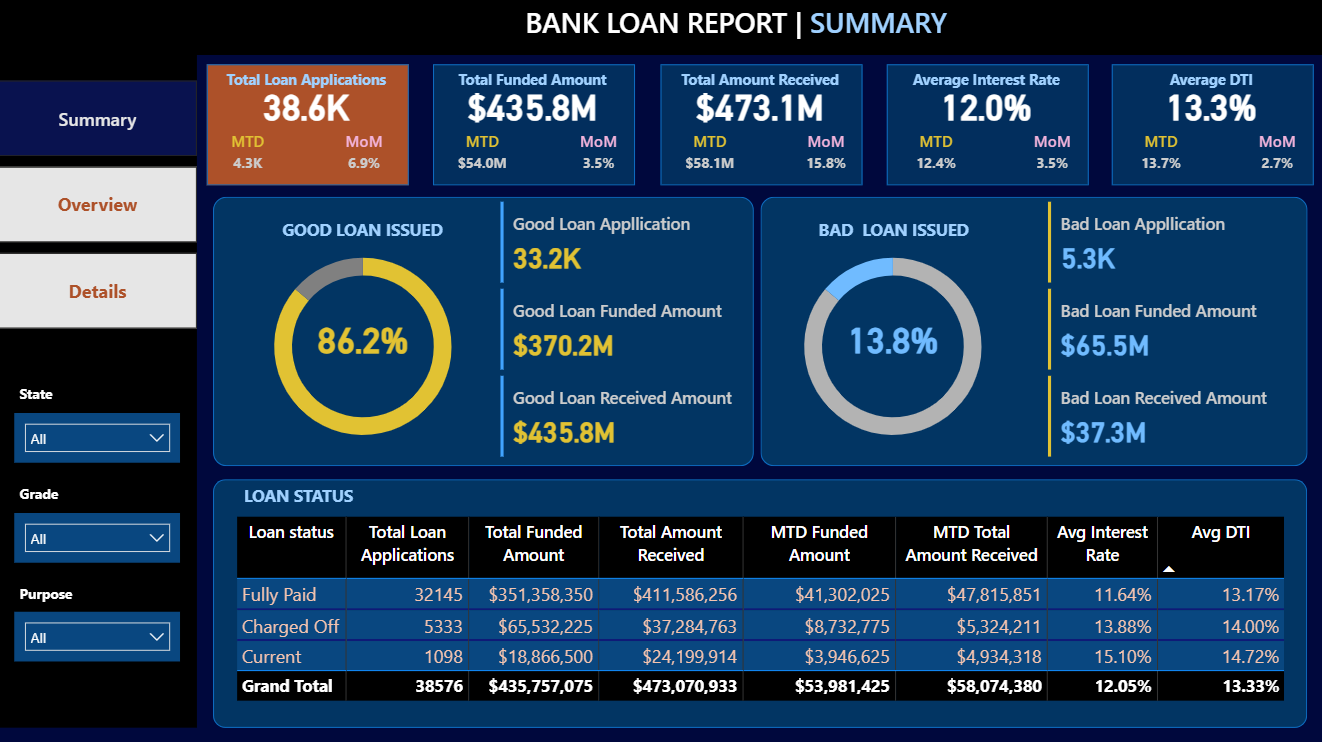

What the dashboard file says about the page in this screenshot:
{"tool":"powerbi","page":{"name":"Summary","canvas":[1280,720],"ordinal":0},"visuals":[{"type":"shape","box":[0,0,1280,55],"z":0},{"type":"shape","box":[201.9,63.4,195,117],"z":0,"group":"g2"},{"type":"shape","box":[419.4,64,195,117],"z":0,"group":"g1"},{"type":"shape","box":[639.8,64,195,117],"z":0,"group":"g4"},{"type":"shape","box":[857.2,64,195,117],"z":0,"group":"g3"},{"type":"shape","box":[1074.7,64,195,117],"z":0,"group":"g5"},{"type":"shape","box":[0,48,192,656],"z":1000},{"type":"card","fields":{"Values":["bank_loan_data.Total Loan Applications"]},"box":[201.9,79.4,192,48],"z":1000,"group":"g2"},{"type":"card","fields":{"Values":["bank_loan_data.Total Funded Amount"]},"box":[419.4,80,192,48],"z":1000,"group":"g1"},{"type":"card","fields":{"Values":["bank_loan_data.Total Amount Received"]},"box":[639.8,80,192,48],"z":1000,"group":"g4"},{"type":"card","fields":{"Values":["bank_loan_data.Avg Interest Rate"]},"box":[857.2,80,192,48],"z":1000,"group":"g3"},{"type":"card","fields":{"Values":["bank_loan_data.Avg DTI"]},"box":[1074.7,80,192,48],"z":1000,"group":"g5"},{"type":"textbox","box":[201.9,63.4,192,32],"z":2000,"group":"g2"},{"type":"textbox","box":[419.4,64,192,32],"z":2000,"group":"g1"},{"type":"textbox","box":[639.8,64,192,32],"z":2000,"group":"g4"},{"type":"textbox","box":[857.2,64,192,32],"z":2000,"group":"g3"},{"type":"textbox","box":[1074.7,64,192,32],"z":2000,"group":"g5"},{"type":"shape","box":[208,192,522,260],"z":2000},{"type":"card","title":"MTD","fields":{"Values":["bank_loan_data.MTD"]},"box":[217.9,127.4,48,48],"z":3000,"group":"g2"},{"type":"card","title":"MTD","fields":{"Values":["bank_loan_data.MTD Funded Amount"]},"box":[435.4,128,64,48],"z":3000,"group":"g1"},{"type":"card","title":"MTD","fields":{"Values":["bank_loan_data.MTD Total Amount Received"]},"box":[655.8,128,64,48],"z":3000,"group":"g4"},{"type":"card","title":"MTD","fields":{"Values":["bank_loan_data.MTD Avg Int Rate"]},"box":[873.2,128,64,48],"z":3000,"group":"g3"},{"type":"card","title":"MTD","fields":{"Values":["bank_loan_data.MTD Avg DTI"]},"box":[1090.7,128,64,48],"z":3000,"group":"g5"},{"type":"card","fields":{"Values":["bank_loan_data.Good Loan %"]},"box":[288,304,128,48],"z":3000},{"type":"card","title":"MoM","fields":{"Values":["bank_loan_data.Month To Month Loan Application"]},"box":[329.9,127.4,48,48],"z":4000,"group":"g2"},{"type":"card","title":"MoM","fields":{"Values":["bank_loan_data.MonthToMonth Total Funded Amount"]},"box":[547.4,128,64,48],"z":4000,"group":"g1"},{"type":"card","title":"MoM","fields":{"Values":["bank_loan_data.MonthToMonth Total Amount Received"]},"box":[767.8,128,64,48],"z":4000,"group":"g4"},{"type":"card","title":"MoM","fields":{"Values":["bank_loan_data.MonthToMonth Avg Int Rate"]},"box":[985.2,128,64,48],"z":4000,"group":"g3"},{"type":"card","title":"MoM","fields":{"Values":["bank_loan_data.MonthToMonth Avg DTI"]},"box":[1202.7,128,64,48],"z":4000,"group":"g5"},{"type":"textbox","box":[256,208,192,32],"z":4000},{"type":"card","fields":{"Values":["bank_loan_data.Bad Loan %"]},"box":[800,304,128,64],"z":5000},{"type":"textbox","box":[288,0,848,48],"z":6000},{"type":"group","id":"g1","title":"Group 1","box":[419.4,64,195,117],"z":7000},{"type":"group","id":"g2","title":"Group 1","box":[201.9,63.4,192,128],"z":8000},{"type":"group","id":"g3","title":"Group 1","box":[857.2,64,192,128],"z":9000},{"type":"group","id":"g4","title":"Group 1","box":[639.8,64,192,128],"z":10000},{"type":"group","id":"g5","title":"Group 1","box":[1074.7,64,192,128],"z":11000},{"type":"shape","box":[736,192,528,260],"z":12000},{"type":"donutChart","fields":{"Category":["bank_loan_data.Good v Bad Loan"],"Y":["bank_loan_data.Total Loan Applications"]},"box":[224,224,256,224],"z":13000},{"type":"cardVisual","fields":{"Data":["bank_loan_data.Good Loan Appllication","bank_loan_data.Good Loan Funded Amount","bank_loan_data.Good Loan Received Amount"]},"box":[480,192,256,256],"z":14000},{"type":"textbox","box":[768,208,192,32],"z":15000},{"type":"donutChart","fields":{"Category":["bank_loan_data.Good v Bad Loan"],"Y":["bank_loan_data.Total Loan Applications"]},"box":[736,224,256,224],"z":16000},{"type":"cardVisual","fields":{"Data":["bank_loan_data.Bad Loan Appllication","bank_loan_data.Bad Loan Funded Amount","bank_loan_data.Bad Loan Received Amount"]},"box":[1008,192,256,256],"z":17000},{"type":"card","fields":{"Values":["bank_loan_data.Bad Loan %"]},"box":[800,304,128,48],"z":18000},{"type":"shape","box":[208,464,1056,240],"z":19000},{"type":"tableEx","fields":{"Values":["bank_loan_data.loan_status","bank_loan_data.Total Loan Applications","bank_loan_data.Total Funded Amount","bank_loan_data.Total Amount Received","bank_loan_data.MTD Funded Amount","bank_loan_data.MTD Total Amount Received","bank_loan_data.Avg Interest Rate","bank_loan_data.Avg DTI"]},"box":[224,496,1024,224],"z":20000},{"type":"textbox","box":[192,464,192,32],"z":21000},{"type":"slicer","fields":{"Values":["bank_loan_data.address_state"]},"box":[16,400,160,48],"z":22000},{"type":"textbox","box":[16,368,112,32],"z":23000},{"type":"slicer","fields":{"Values":["bank_loan_data.grade"]},"box":[16,496.7,160,48],"z":24000},{"type":"textbox","box":[16,464.7,112,32],"z":25000},{"type":"slicer","fields":{"Values":["bank_loan_data.purpose"]},"box":[16,592.5,160,48],"z":26000},{"type":"textbox","box":[16,560.5,96,32],"z":27000},{"type":"pageNavigator","box":[0,80,192,240],"z":28000}]}

Visuals, with their boxes in screenshot pixels (x1, y1, x2, y2), scaled from the page's 1280x720 canvas onto the 1322x742 screenshot:
shape: [left=0, top=0, right=1321, bottom=57]
shape: [left=209, top=65, right=410, bottom=186]
shape: [left=433, top=66, right=635, bottom=187]
shape: [left=661, top=66, right=862, bottom=187]
shape: [left=885, top=66, right=1087, bottom=187]
shape: [left=1110, top=66, right=1311, bottom=187]
shape: [left=0, top=49, right=198, bottom=726]
card - bank_loan_data.Total Loan Applications: [left=209, top=82, right=407, bottom=131]
card - bank_loan_data.Total Funded Amount: [left=433, top=82, right=631, bottom=132]
card - bank_loan_data.Total Amount Received: [left=661, top=82, right=859, bottom=132]
card - bank_loan_data.Avg Interest Rate: [left=885, top=82, right=1084, bottom=132]
card - bank_loan_data.Avg DTI: [left=1110, top=82, right=1308, bottom=132]
textbox: [left=209, top=65, right=407, bottom=98]
textbox: [left=433, top=66, right=631, bottom=99]
textbox: [left=661, top=66, right=859, bottom=99]
textbox: [left=885, top=66, right=1084, bottom=99]
textbox: [left=1110, top=66, right=1308, bottom=99]
shape: [left=215, top=198, right=754, bottom=466]
"MTD" card: [left=225, top=131, right=275, bottom=181]
"MTD" card: [left=450, top=132, right=516, bottom=181]
"MTD" card: [left=677, top=132, right=743, bottom=181]
"MTD" card: [left=902, top=132, right=968, bottom=181]
"MTD" card: [left=1126, top=132, right=1193, bottom=181]
card - bank_loan_data.Good Loan %: [left=297, top=313, right=430, bottom=363]
"MoM" card: [left=341, top=131, right=390, bottom=181]
"MoM" card: [left=565, top=132, right=631, bottom=181]
"MoM" card: [left=793, top=132, right=859, bottom=181]
"MoM" card: [left=1018, top=132, right=1084, bottom=181]
"MoM" card: [left=1242, top=132, right=1308, bottom=181]
textbox: [left=264, top=214, right=463, bottom=247]
card - bank_loan_data.Bad Loan %: [left=826, top=313, right=958, bottom=379]
textbox: [left=297, top=0, right=1173, bottom=49]
"Group 1" group: [left=433, top=66, right=635, bottom=187]
"Group 1" group: [left=209, top=65, right=407, bottom=197]
"Group 1" group: [left=885, top=66, right=1084, bottom=198]
"Group 1" group: [left=661, top=66, right=859, bottom=198]
"Group 1" group: [left=1110, top=66, right=1308, bottom=198]
shape: [left=760, top=198, right=1305, bottom=466]
donutChart - bank_loan_data.Good v Bad Loan x bank_loan_data.Total Loan Applications: [left=231, top=231, right=496, bottom=462]
cardVisual - bank_loan_data.Good Loan Appllication x bank_loan_data.Good Loan Funded Amount: [left=496, top=198, right=760, bottom=462]
textbox: [left=793, top=214, right=991, bottom=247]
donutChart - bank_loan_data.Good v Bad Loan x bank_loan_data.Total Loan Applications: [left=760, top=231, right=1025, bottom=462]
cardVisual - bank_loan_data.Bad Loan Appllication x bank_loan_data.Bad Loan Funded Amount: [left=1041, top=198, right=1305, bottom=462]
card - bank_loan_data.Bad Loan %: [left=826, top=313, right=958, bottom=363]
shape: [left=215, top=478, right=1305, bottom=726]
tableEx - bank_loan_data.loan_status x bank_loan_data.Total Loan Applications: [left=231, top=511, right=1289, bottom=741]
textbox: [left=198, top=478, right=397, bottom=511]
slicer - bank_loan_data.address_state: [left=17, top=412, right=182, bottom=462]
textbox: [left=17, top=379, right=132, bottom=412]
slicer - bank_loan_data.grade: [left=17, top=512, right=182, bottom=561]
textbox: [left=17, top=479, right=132, bottom=512]
slicer - bank_loan_data.purpose: [left=17, top=611, right=182, bottom=660]
textbox: [left=17, top=578, right=116, bottom=611]
pageNavigator: [left=0, top=82, right=198, bottom=330]
